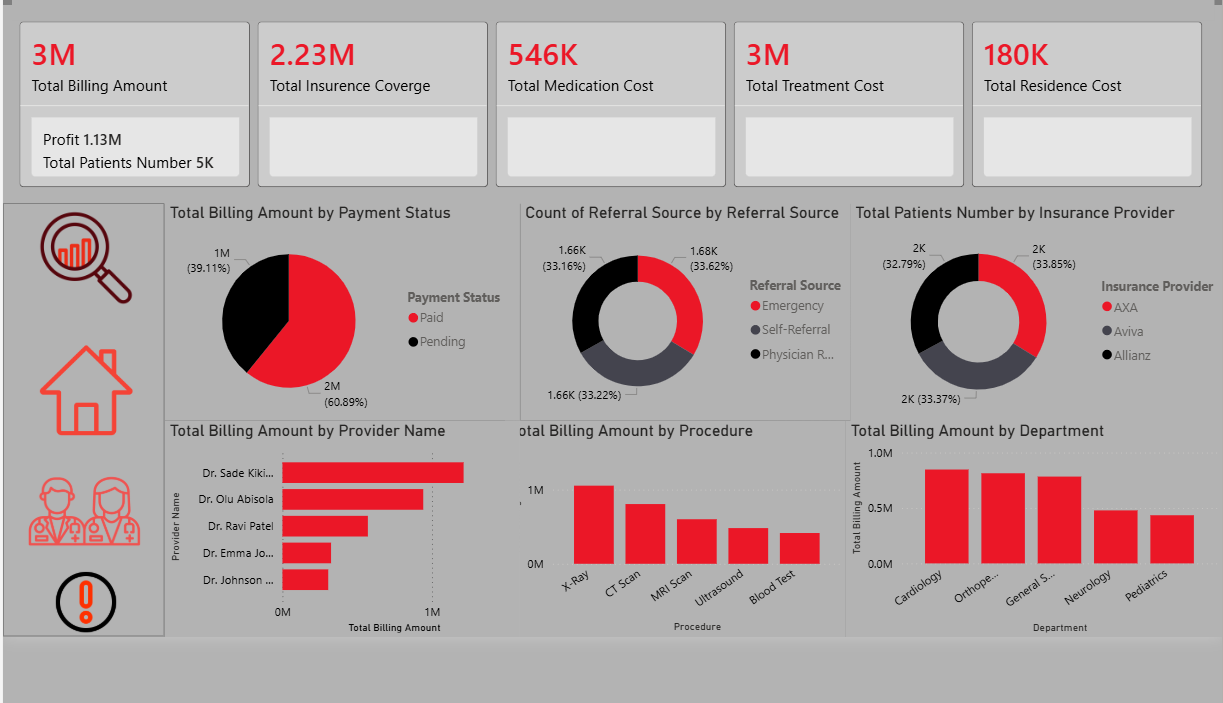

The page's visual inventory and layout, read from the dashboard file:
{"tool":"powerbi","page":{"name":"Home","canvas":[1280,720],"ordinal":0},"visuals":[{"type":"cardVisual","fields":{"Data":["Table Measures.Total Billing Amount","Table Measures.Total Insurence Coverge","Table Measures.Total Medication Cost","Table Measures.Total Treatment Cost","Table Measures.Total Residence Cost"]},"box":[0,56.5,1279.7,208.7],"z":0},{"type":"shape","box":[0,265.2,169.6,455.1],"z":1000},{"type":"donutChart","fields":{"Category":["visits.Referral Source"],"Y":["CountNonNull(visits.Referral Source)"]},"box":[543.3,265.1,346.5,227.7],"z":2000},{"type":"clusteredColumnChart","fields":{"Category":["departments.Department"],"Y":["Table Measures.Total Billing Amount"]},"box":[884.8,492.8,395.3,227.7],"z":3000},{"type":"columnChart","fields":{"Y":["Table Measures.Total Billing Amount"],"Category":["procedures.Procedure"]},"box":[527.1,493.2,357.6,227.1],"z":4000},{"type":"clusteredBarChart","fields":{"Category":["providers.Provider Name"],"Y":["Table Measures.Total Billing Amount"]},"box":[170.8,492.8,372.5,227.7],"z":5000},{"type":"pieChart","fields":{"Category":["visits.Payment Status"],"Y":["Table Measures.Total Billing Amount"]},"box":[170.8,265.1,372.5,227.7],"z":6000},{"type":"donutChart","fields":{"Category":["insurance.Insurance Provider"],"Y":["Table Measures.Total Patients Number"]},"box":[889.7,265.1,390.4,229.3],"z":7000},{"type":"image","box":[21.7,413,130.4,97.1],"z":8000},{"type":"image","box":[31.9,647.8,111.6,72.5],"z":9000},{"type":"image","box":[10.1,523.2,152.2,130.4],"z":10000},{"type":"image","box":[24.3,265.3,127.6,115.4],"z":11000},{"type":"textbox","box":[10.2,0,1262.7,72.9],"z":12000}]}

Visuals, with their boxes in screenshot pixels (x1, y1, x2, y2), scaled from the page's 1280x720 canvas onto the 1223x703 screenshot:
cardVisual - Table Measures.Total Billing Amount x Table Measures.Total Insurence Coverge: [x1=0, y1=55, x2=1222, y2=259]
shape: [x1=0, y1=259, x2=162, y2=702]
donutChart - visits.Referral Source x CountNonNull(visits.Referral Source): [x1=519, y1=259, x2=850, y2=481]
clusteredColumnChart - departments.Department x Table Measures.Total Billing Amount: [x1=845, y1=481, x2=1222, y2=702]
columnChart - Table Measures.Total Billing Amount x procedures.Procedure: [x1=504, y1=482, x2=845, y2=702]
clusteredBarChart - providers.Provider Name x Table Measures.Total Billing Amount: [x1=163, y1=481, x2=519, y2=702]
pieChart - visits.Payment Status x Table Measures.Total Billing Amount: [x1=163, y1=259, x2=519, y2=481]
donutChart - insurance.Insurance Provider x Table Measures.Total Patients Number: [x1=850, y1=259, x2=1222, y2=483]
image: [x1=21, y1=403, x2=145, y2=498]
image: [x1=30, y1=633, x2=137, y2=702]
image: [x1=10, y1=511, x2=155, y2=638]
image: [x1=23, y1=259, x2=145, y2=372]
textbox: [x1=10, y1=0, x2=1216, y2=71]
